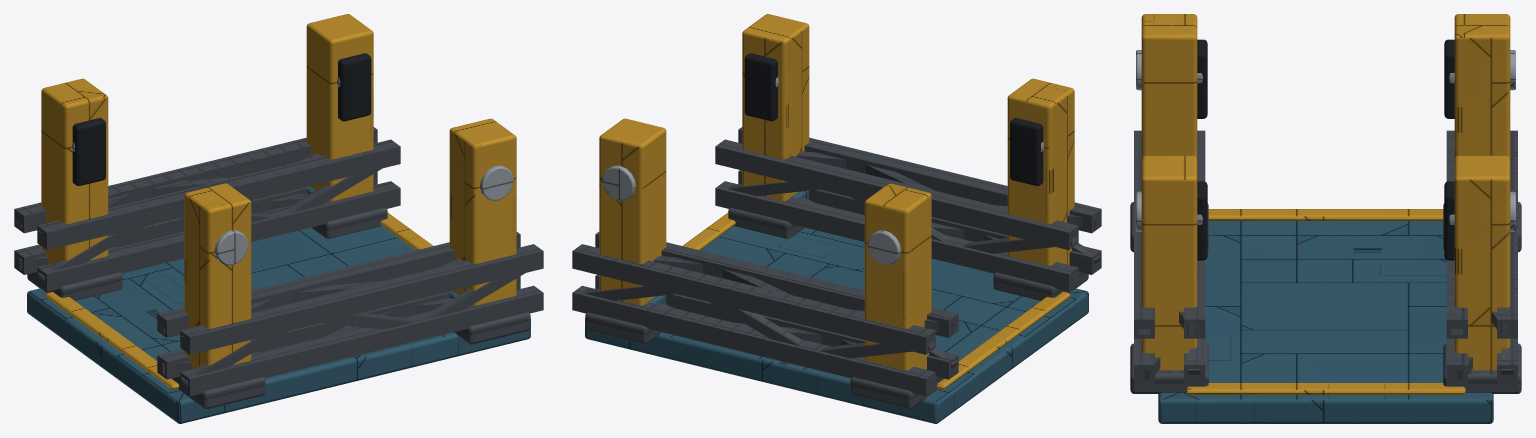
File: berth_jaw_lod1.glb
3 renders of one model, left to right at view 1: azimuth 30°, elevation 25°; view 2: azimuth 150°, elevation 25°; view 3: azimuth 270°, elevation 25°, orthographic. The views are drawn at different scales.
Parts seen in each view (by area): view 1: LOD1_Mechanical, LOD1_Warning, LOD1_Armor, LOD1_MechanicalDark, LOD1_BrushedMetal; view 2: LOD1_Mechanical, LOD1_Warning, LOD1_Armor, LOD1_MechanicalDark, LOD1_BrushedMetal; view 3: LOD1_Armor, LOD1_Warning, LOD1_Mechanical, LOD1_MechanicalDark, LOD1_BrushedMetal.
Boxes of the visible parts, x1=… form: LOD1_Mechanical: x1=14, y1=127, x2=543, y2=409; LOD1_Warning: x1=41, y1=14, x2=516, y2=389; LOD1_Armor: x1=27, y1=186, x2=530, y2=423; LOD1_MechanicalDark: x1=72, y1=53, x2=371, y2=185; LOD1_BrushedMetal: x1=72, y1=77, x2=513, y2=265; LOD1_Mechanical: x1=572, y1=127, x2=1101, y2=409; LOD1_Warning: x1=599, y1=14, x2=1074, y2=389; LOD1_Armor: x1=585, y1=190, x2=1088, y2=423; LOD1_MechanicalDark: x1=744, y1=53, x2=1043, y2=185; LOD1_BrushedMetal: x1=602, y1=77, x2=1043, y2=265; LOD1_Armor: x1=1158, y1=221, x2=1493, y2=423; LOD1_Warning: x1=1141, y1=14, x2=1510, y2=394; LOD1_Mechanical: x1=1130, y1=130, x2=1521, y2=393; LOD1_MechanicalDark: x1=1197, y1=39, x2=1454, y2=260; LOD1_BrushedMetal: x1=1136, y1=50, x2=1515, y2=231.
Bounding box in the file's own units: 4.03 × 2.33 × 3.5.
Materials: 5 (5 with a texture image).
